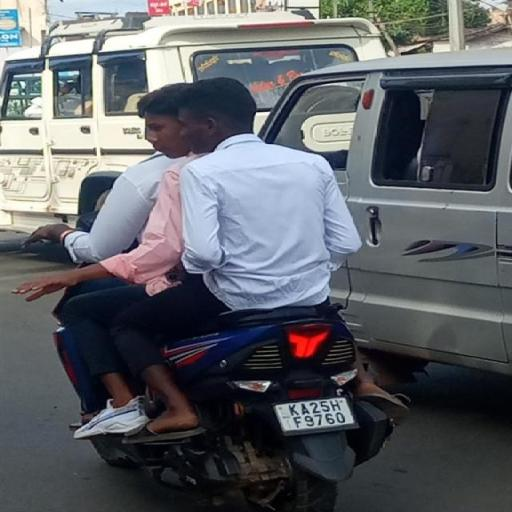tripple riding: (17, 74, 364, 315)
